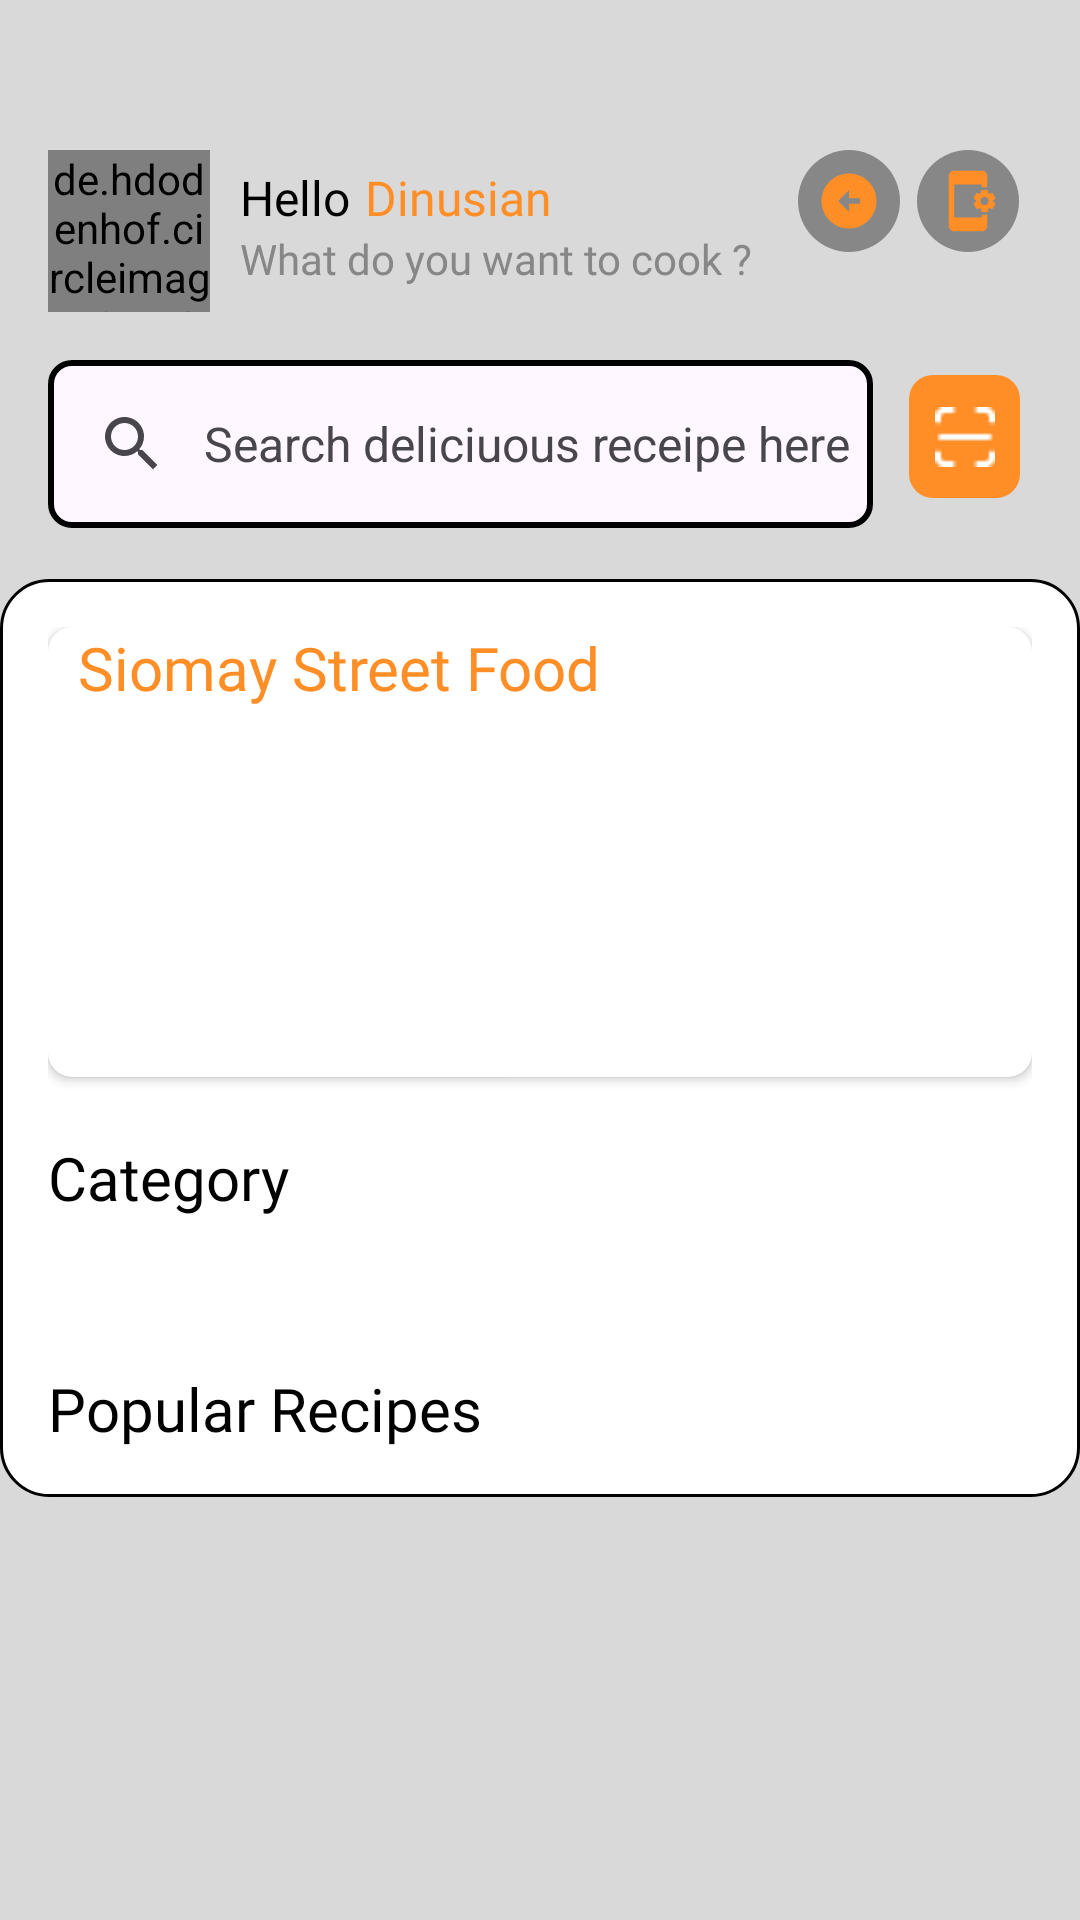

Where to tap for icons on this 1080 x 1920 app screen, as (x=x, y=y):
scan: (x=964, y=436)
setting: (x=968, y=201)
